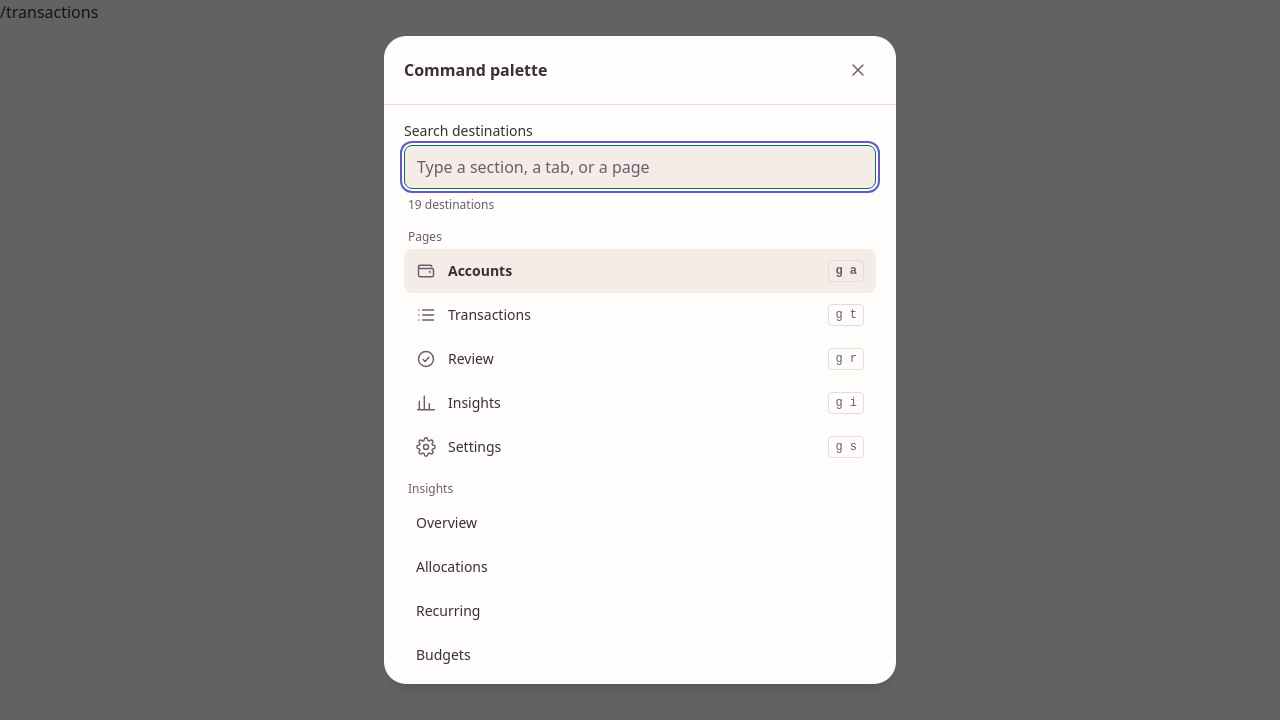
Scenario: <CommandPalette /> › filters as you type, and says how many are left
Check: the message with test id "palette-status" reads "19 destinations", box [408, 196, 494, 213]
Type "trans" into the dropdown with test id "palette-input" at (640, 167), box [404, 145, 876, 189]
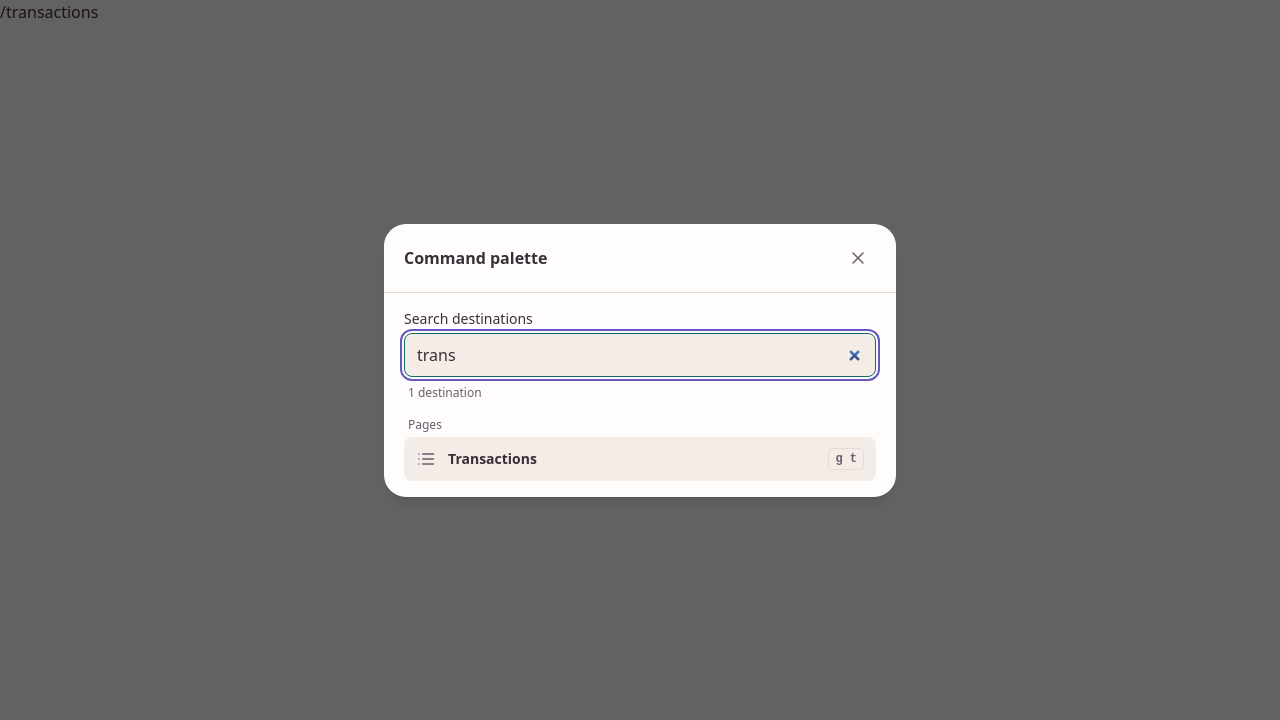
Check: the option with test id "palette-option-nav-transactions" is shown, box [404, 436, 876, 480]
Check: the option with test id "palette-option-nav-accounts" is gone
Check: the message with test id "palette-status" reads "1 destination", box [408, 384, 482, 400]
